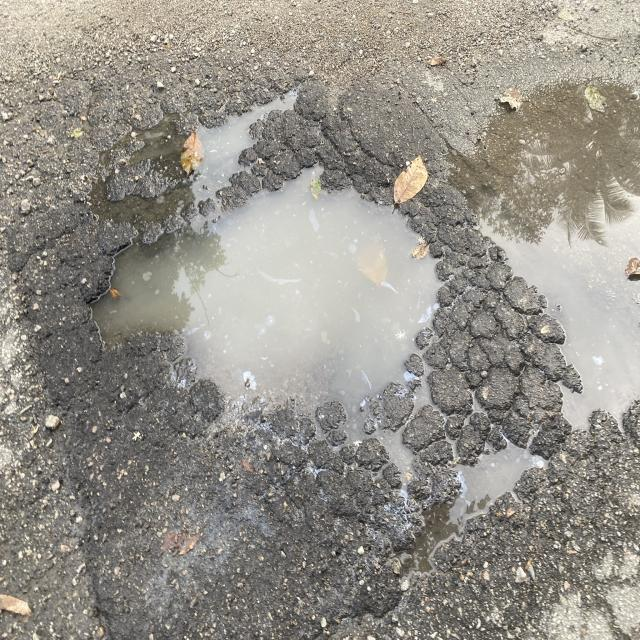pothole: (42, 128, 528, 473)
